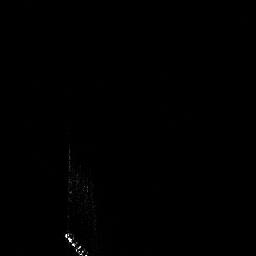ship: (63, 230, 93, 256)
